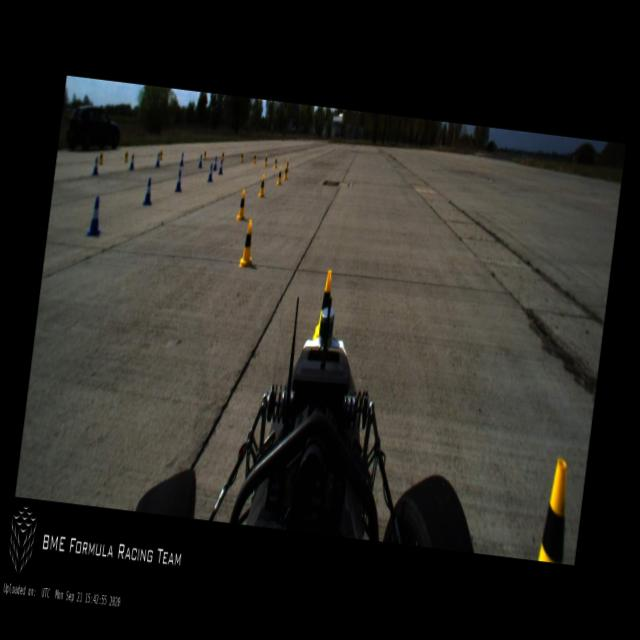blue_cone: (86, 195, 104, 238), (142, 177, 154, 204), (174, 168, 183, 192), (206, 163, 214, 182), (92, 156, 100, 175), (128, 154, 136, 170), (218, 158, 224, 174), (212, 155, 218, 171), (197, 152, 203, 168), (179, 151, 185, 167), (154, 152, 160, 168)
yellow_cone: (537, 457, 575, 562), (312, 267, 333, 339), (238, 218, 257, 268), (236, 189, 248, 221), (258, 174, 266, 198), (276, 166, 284, 185), (282, 163, 288, 180), (284, 156, 290, 172), (98, 148, 104, 164), (273, 153, 278, 169), (263, 152, 268, 166), (123, 148, 128, 162), (252, 150, 257, 163), (202, 147, 207, 160), (158, 148, 163, 160), (240, 150, 244, 163), (220, 148, 224, 161)
